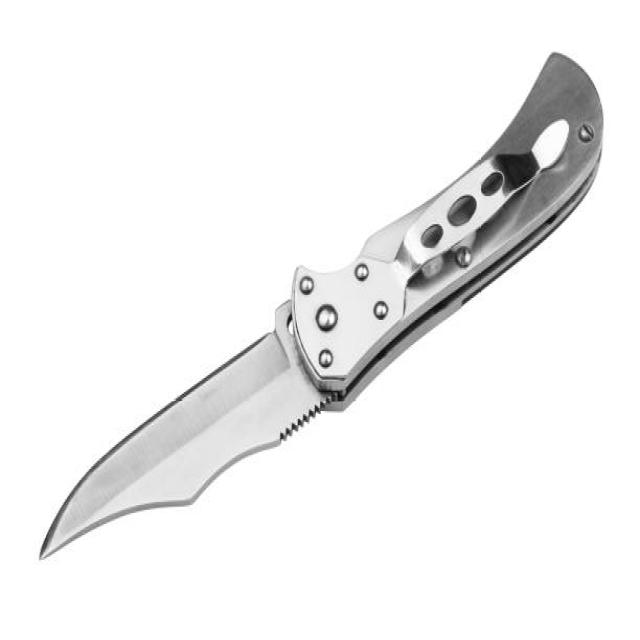knife: (32, 41, 613, 571)
